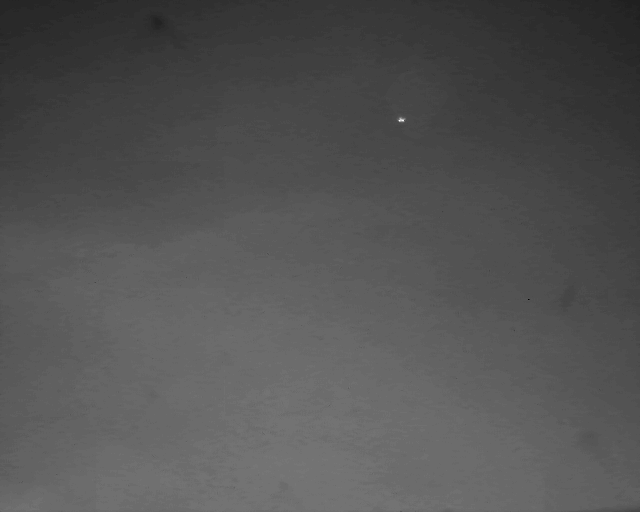Target: (396, 117, 405, 124)
